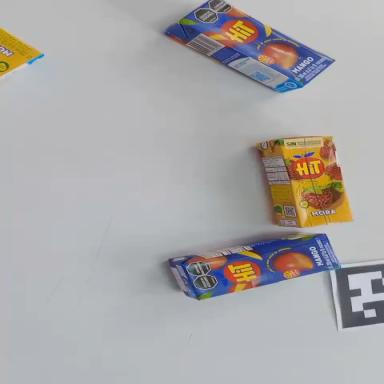HIT-MANGO: (164, 0, 335, 111), (168, 222, 340, 305)
HIT-MORA: (256, 126, 352, 238), (0, 28, 44, 78)
cara_F: (178, 0, 336, 97), (184, 230, 341, 302), (279, 127, 354, 234), (0, 27, 42, 79)
